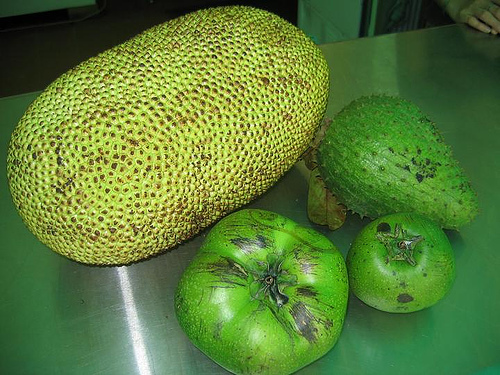jackfruit: (1, 0, 332, 274)
